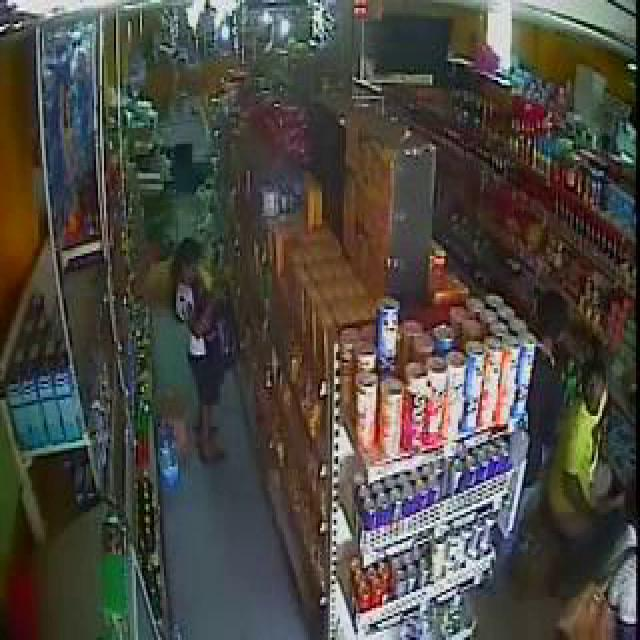shoplifting: (139, 62, 293, 592)
